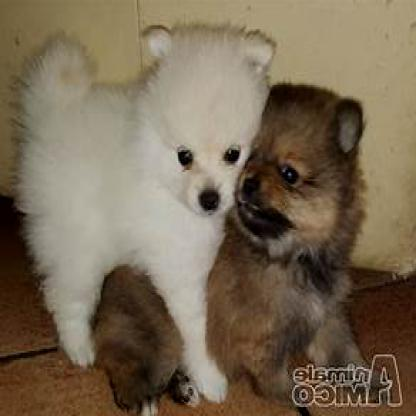dog: (12, 24, 276, 402), (94, 83, 363, 414)
